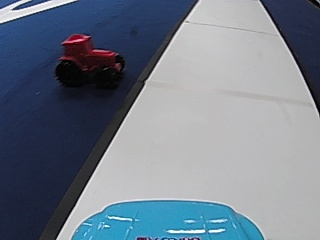tractor: (54, 30, 126, 89)
